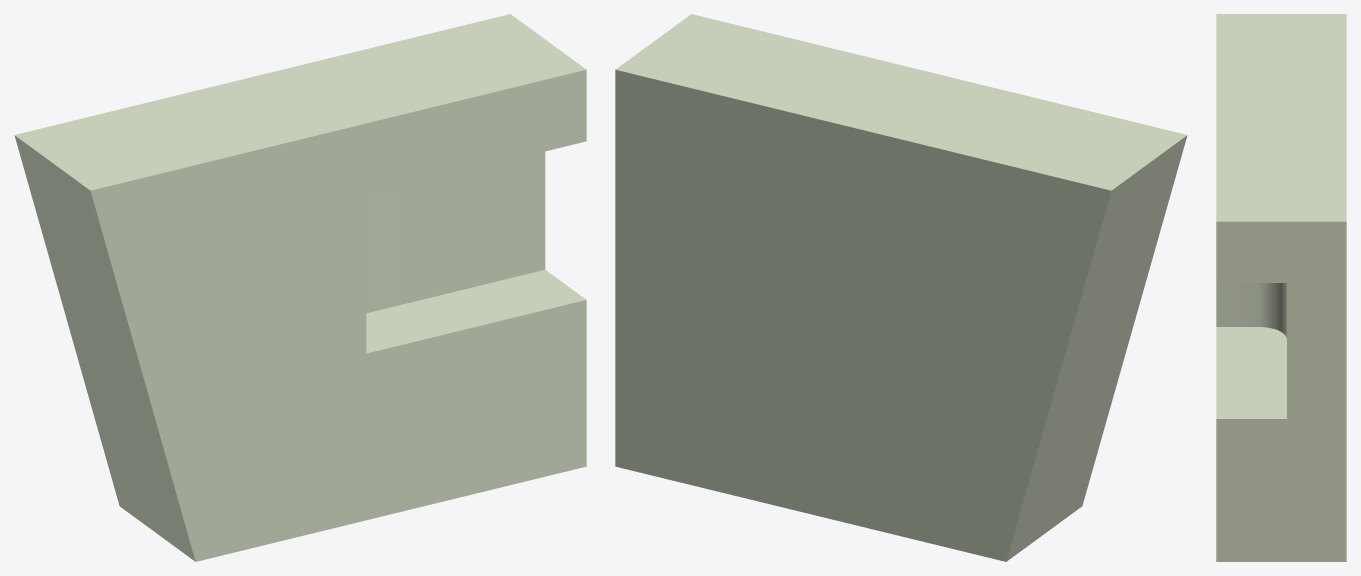
Rendered from WALL RIGHT.fbx.
3 views of the same model, side by side, from view 1: azimuth 30°, elevation 25°; view 2: azimuth 150°, elevation 25°; view 3: azimuth 270°, elevation 25° (orthographic). The views are drawn at different scales.
Parts seen in each view (by area): view 1: WALL RIGHT; view 2: WALL RIGHT; view 3: WALL RIGHT.
Part boxes in pixels (left/top/right/bottom): WALL RIGHT: left=14, top=14, right=586, bottom=561; WALL RIGHT: left=615, top=14, right=1187, bottom=561; WALL RIGHT: left=1216, top=14, right=1346, bottom=561.
Size of the model in its own units: 4.75 by 3.63 by 1.26.
